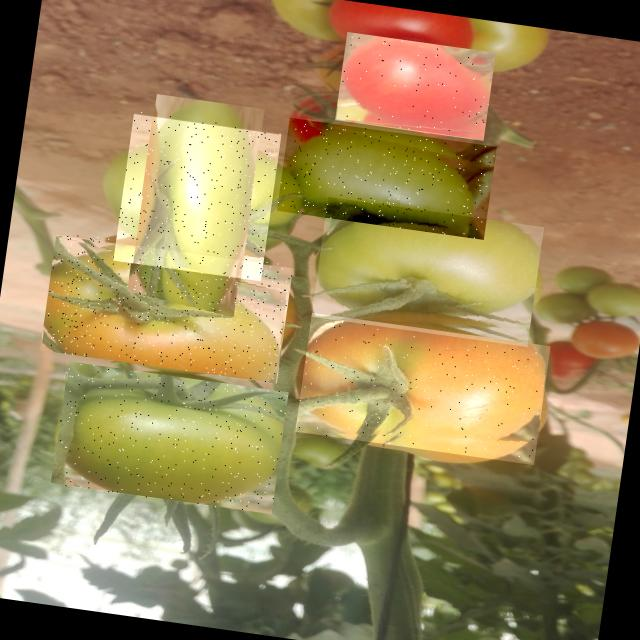Ripe Tomato: (335, 32, 496, 141)
Unripe Tomato: (296, 313, 550, 465), (40, 231, 294, 383), (49, 361, 288, 515), (311, 197, 544, 347), (114, 111, 282, 278), (277, 118, 497, 240)
